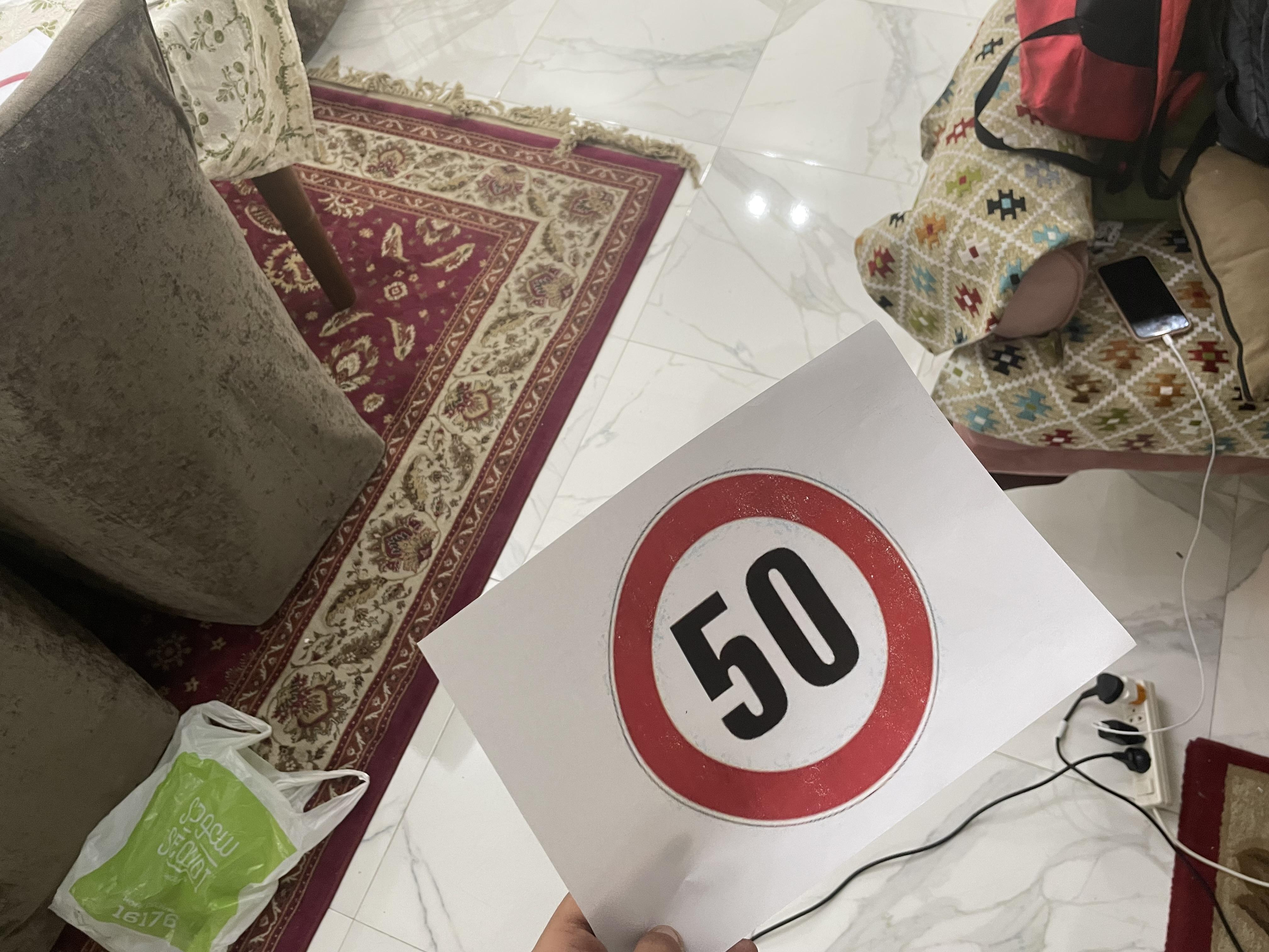50-Speed: (190, 449, 640, 696)
